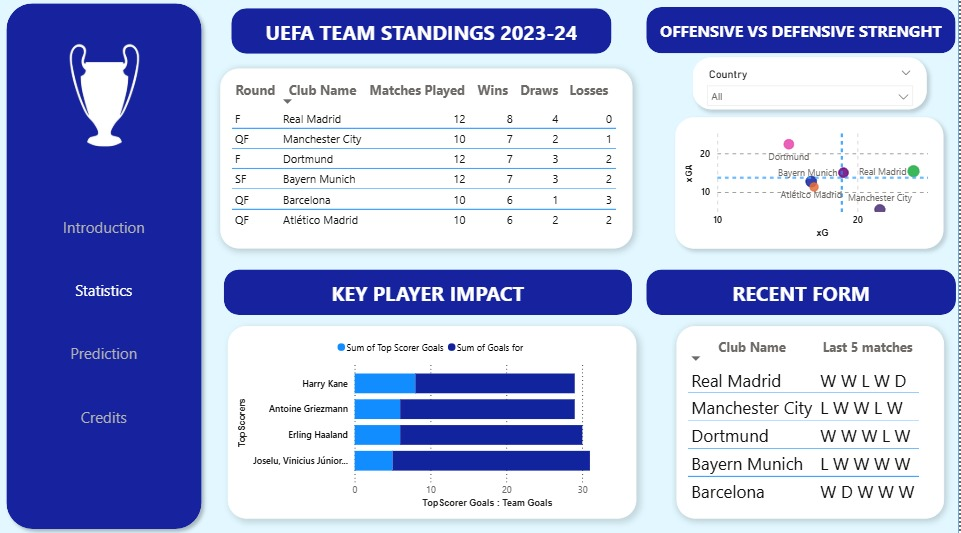

Layout of this report page (visuals, bound fields, positions):
{"tool":"powerbi","page":{"name":"Presentation 2","canvas":[1280,720],"ordinal":1},"visuals":[{"type":"shape","box":[0,0,1280.3,720.4],"z":0},{"type":"shape","box":[0,0,279.9,720.4],"z":1000},{"type":"shape","box":[304.5,11.9,516.4,70.1],"z":2000},{"type":"tableEx","fields":{"Values":["23-24 Season.Rk","23-24 Season.Club Name","23-24 Season.Matches Played","23-24 Season.Wins","23-24 Season.Draws","23-24 Season.Losses"]},"box":[295.5,97,549.3,240.3],"z":3000},{"type":"tableEx","fields":{"Values":["23-24 Season.Club Name","23-24 Season.Last 5"]},"box":[902.9,440,357.1,257.1],"z":4000},{"type":"scatterChart","fields":{"X":["Sum(23-24 Season.xG)"],"Y":["Sum(23-24 Season.xGA)"],"Series":["23-24 Season.Club Name"],"Size":["Sum(23-24 Season.Goal Difference)"]},"box":[902.3,162.5,357.8,175.3],"z":5000},{"type":"shape","box":[858.1,10,421.9,71.3],"z":6000},{"type":"barChart","fields":{"Y":["Sum(23-24 Season.Top Scorer Goals)","Sum(23-24 Season.Goals for)"],"Category":["23-24 Season.Team Top Scorer.1"]},"box":[304.5,440.3,544.8,256.7],"z":7000},{"type":"shape","box":[295.5,359.7,553.7,70.1],"z":8000},{"type":"shape","box":[858.2,359.7,422.4,70.1],"z":9000},{"type":"image","box":[56,48.8,167.9,167.9],"z":10000},{"type":"actionButton","box":[31.3,286.6,216.4,40.3],"z":11000},{"type":"actionButton","box":[32.4,371.1,216.2,40.5],"z":12000},{"type":"actionButton","box":[31.1,455.8,216.2,40.5],"z":13000},{"type":"actionButton","box":[31.1,540.5,216.2,40.5],"z":14000},{"type":"slicer","fields":{"Values":["23-24 Season.Country"]},"box":[925.1,81.2,312.2,69.8],"z":15000}]}

Visuals, with their boxes in screenshot pixels (x1, y1, x2, y2), scaled from the page's 1280x720 canvas onto the 961x533 screenshot:
shape: (0, 0, 960, 532)
shape: (0, 0, 210, 532)
shape: (229, 9, 616, 61)
tableEx - 23-24 Season.Rk x 23-24 Season.Club Name: (222, 72, 634, 250)
tableEx - 23-24 Season.Club Name x 23-24 Season.Last 5: (678, 326, 946, 516)
scatterChart - Sum(23-24 Season.xG) x Sum(23-24 Season.xGA): (677, 120, 946, 250)
shape: (644, 7, 960, 60)
barChart - Sum(23-24 Season.Top Scorer Goals) x Sum(23-24 Season.Goals for): (229, 326, 638, 516)
shape: (222, 266, 638, 318)
shape: (644, 266, 960, 318)
image: (42, 36, 168, 160)
actionButton: (23, 212, 186, 242)
actionButton: (24, 275, 187, 305)
actionButton: (23, 337, 186, 367)
actionButton: (23, 400, 186, 430)
slicer - 23-24 Season.Country: (695, 60, 929, 112)
